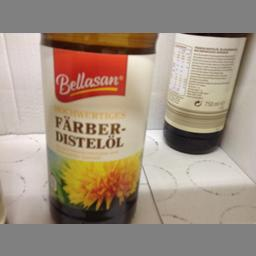oil: (39, 32, 159, 221)
